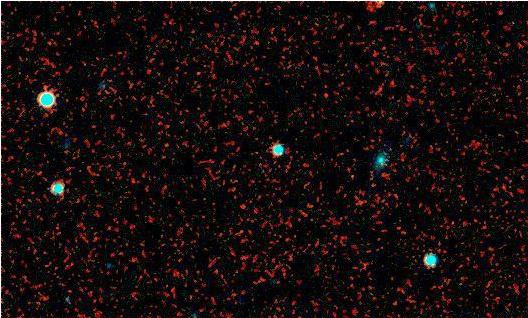star: (334, 159, 364, 189)
